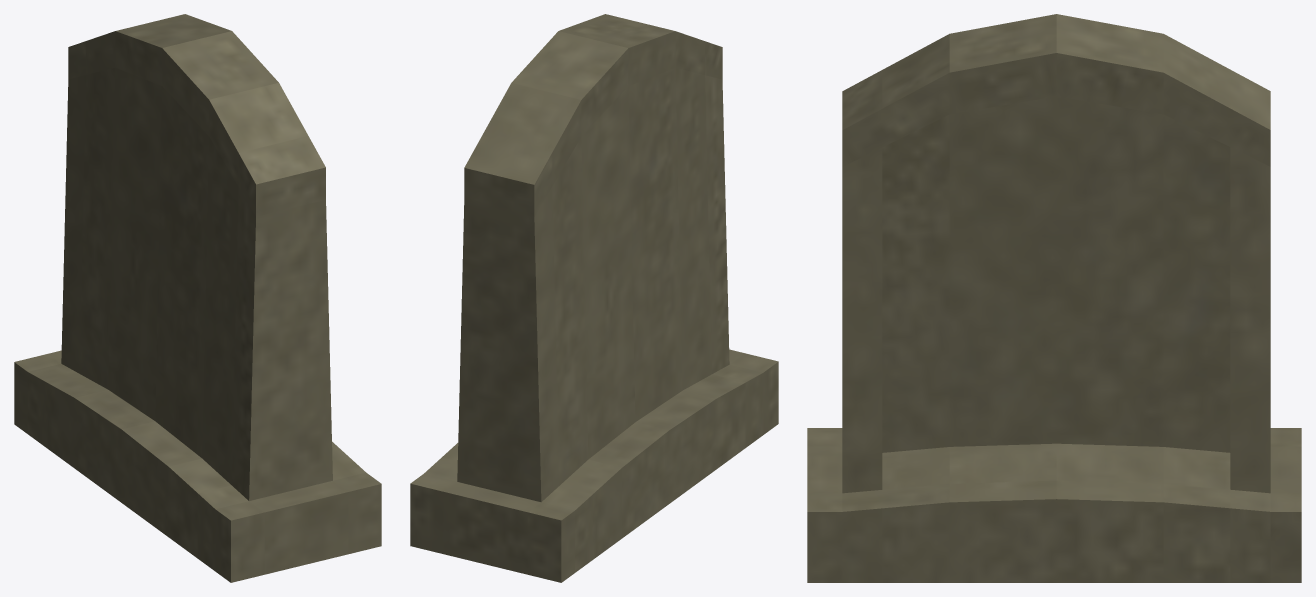
The model's file is Acosta_I_Tombstone1.fbx.
3 renders of one model, left to right at view 1: azimuth 30°, elevation 25°; view 2: azimuth 150°, elevation 25°; view 3: azimuth 270°, elevation 25°, orthographic. The views are drawn at different scales.
Parts seen in each view (by area): view 1: Cube; view 2: Cube; view 3: Cube.
Part boxes in pixels (bbox=[...]): Cube: bbox=[14, 14, 381, 582]; Cube: bbox=[410, 14, 778, 582]; Cube: bbox=[807, 14, 1301, 582].
Size of the model in its own units: 238 by 671 by 593.
